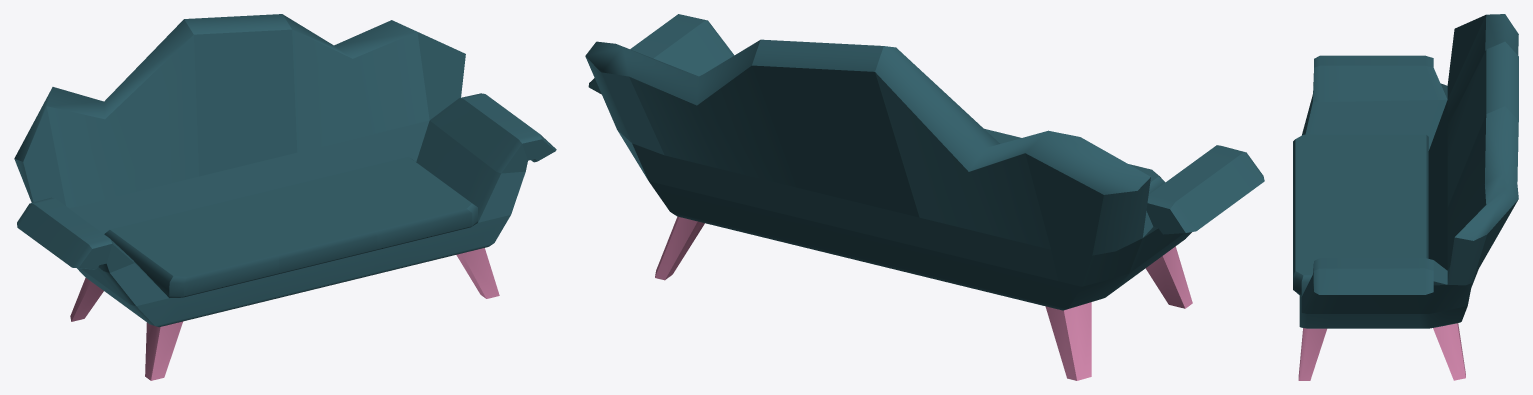
The model's file is couch2.fbx.
3 renders of one model, left to right at view 1: azimuth 30°, elevation 25°; view 2: azimuth 150°, elevation 25°; view 3: azimuth 270°, elevation 25°, orthographic. The views are drawn at different scales.
Visible parts, largest first — view 1: pCube1; view 2: pCube1; view 3: pCube1.
Boxes of the visible parts, <box> form: pCube1: <box>14,14,556,380</box>; pCube1: <box>585,14,1264,380</box>; pCube1: <box>1293,14,1518,380</box>.
Bounding box in the file's own units: 6.95 × 3.42 × 2.9.
